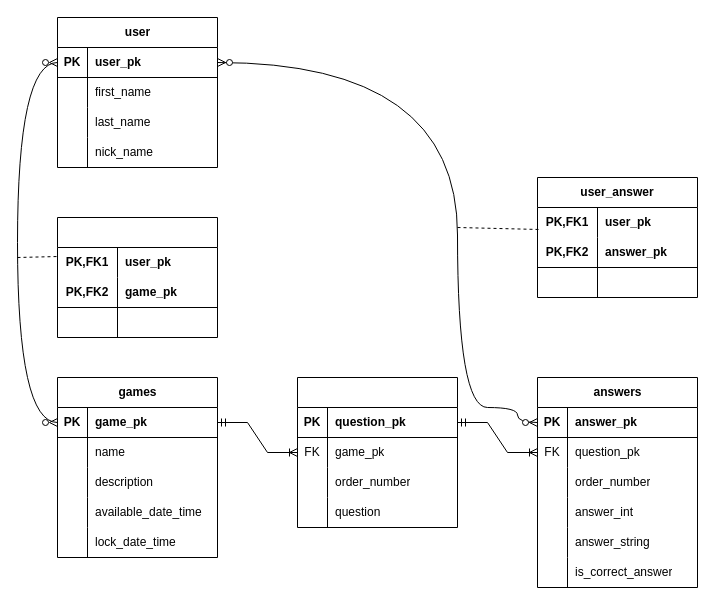
This 715x605 diagram has some shape labels left out. The box of each missing label's shape, as (x1, y1, x2, y2) in pixels:
questions: (296, 376, 458, 528)
user_games: (56, 216, 218, 338)
